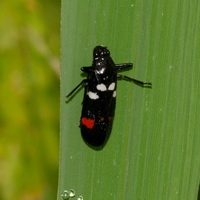insect: (66, 46, 151, 149)
